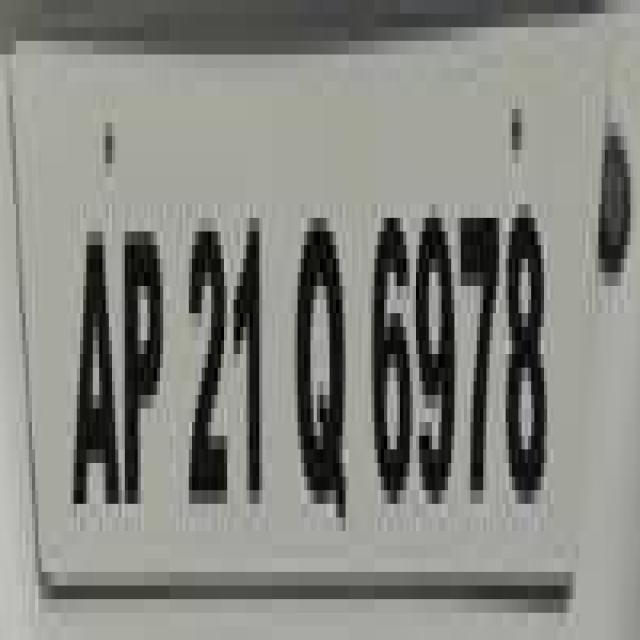license_plate: (3, 28, 608, 626)
